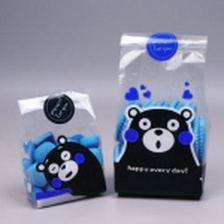snack: (105, 24, 216, 208), (9, 83, 114, 214)
